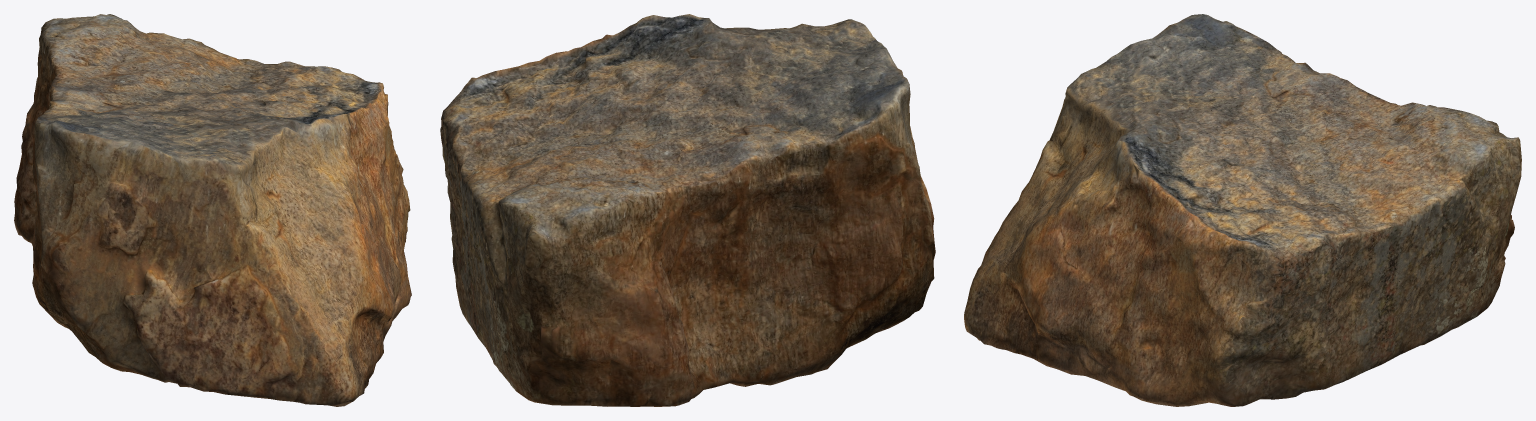
Rendered from prop_rock_a.glb.
The picture shows the model from 3 angles, left to right: view 1: azimuth 30°, elevation 25°; view 2: azimuth 150°, elevation 25°; view 3: azimuth 270°, elevation 25°; orthographic projection. The views are drawn at different scales.
Parts seen in each view (by area): view 1: boulder_03_LOD0; view 2: boulder_03_LOD0; view 3: boulder_03_LOD0.
Part boxes in pixels (<box>): boulder_03_LOD0: <box>14,14,411,406</box>; boulder_03_LOD0: <box>440,14,935,406</box>; boulder_03_LOD0: <box>964,14,1521,406</box>.
Size of the model in its own units: 2.4 by 1.47 by 3.06.
Materials: 1 (1 with a texture image).
